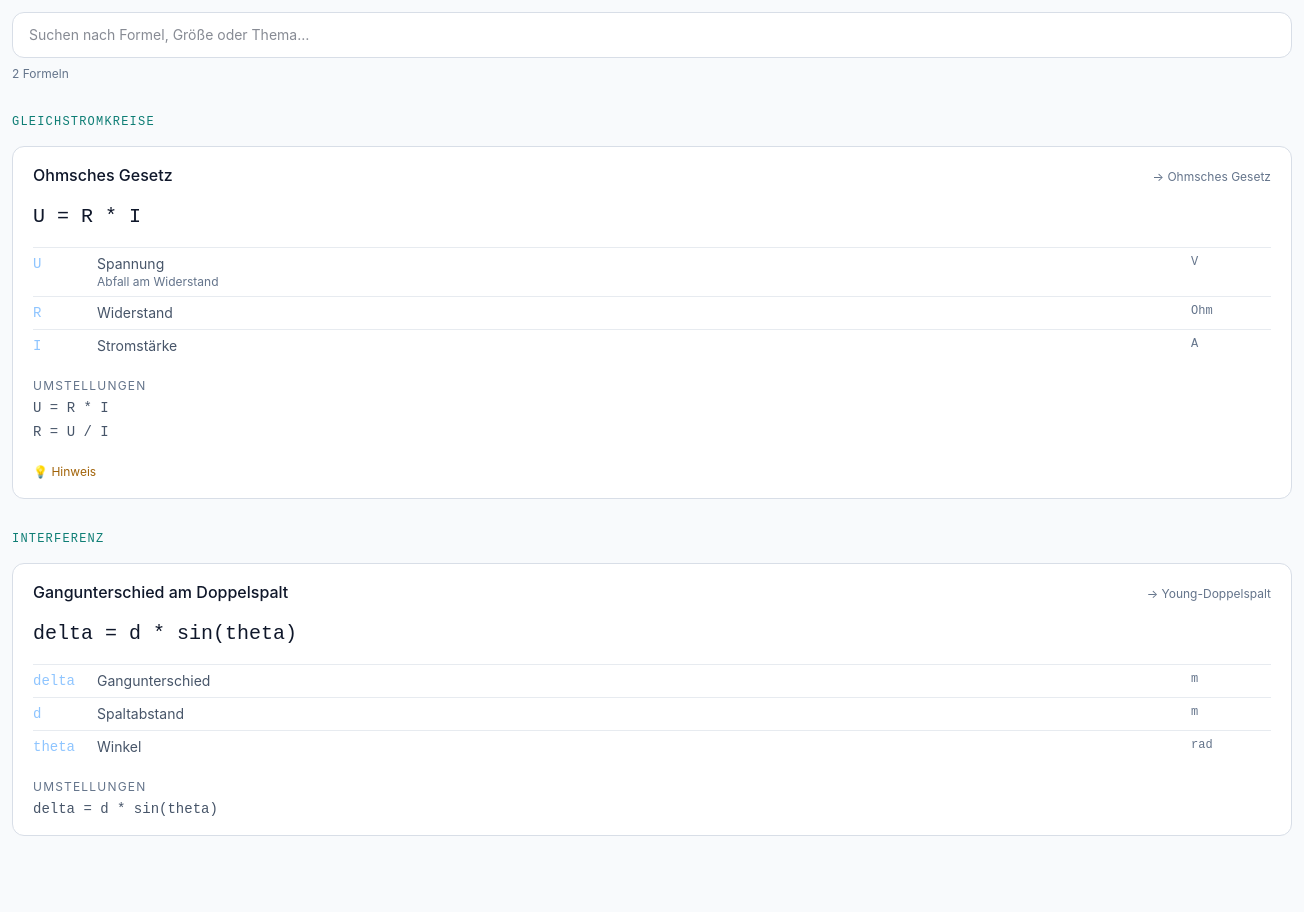
Formelliste › blendet beim Suchen die Gebiete ohne Treffer aus
Type "doppelspalt" into the search field labelled "Suchen nach Formel, Größe oder Thema…" at [652, 35], box [12,12,1292,58]
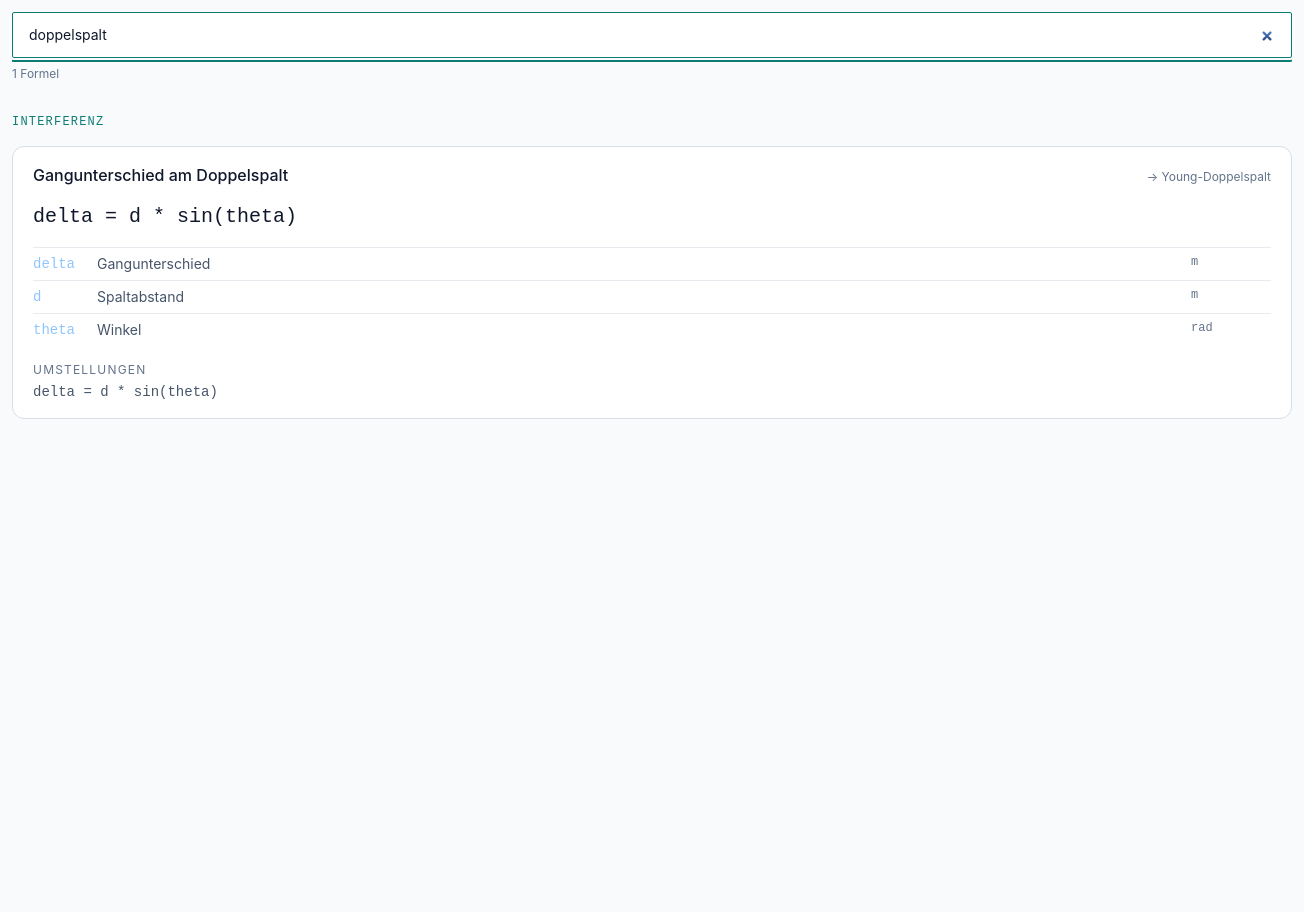
Expected: the heading "Interferenz" is shown, [12,115,104,129]
Now the heading "Gleichstromkreise" is gone
